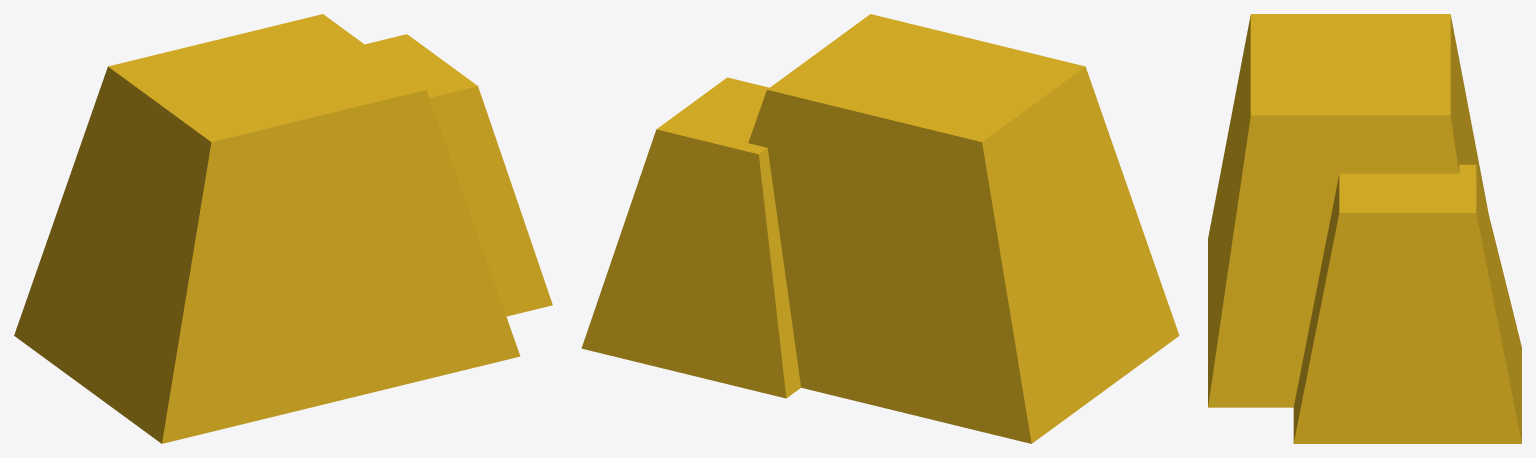
The model's file is Prop_GoldNugget.fbx.
3 views of the same model, side by side, from view 1: azimuth 30°, elevation 25°; view 2: azimuth 150°, elevation 25°; view 3: azimuth 270°, elevation 25° (orthographic). The views are drawn at different scales.
Visible parts, largest first — view 1: Prop_GoldNugget; view 2: Prop_GoldNugget; view 3: Prop_GoldNugget.
Part boxes in pixels (<box>): Prop_GoldNugget: <box>14,14,552,443</box>; Prop_GoldNugget: <box>581,14,1179,443</box>; Prop_GoldNugget: <box>1208,14,1521,443</box>.
Size of the model in its own units: 0.085 by 0.05 by 0.055.
